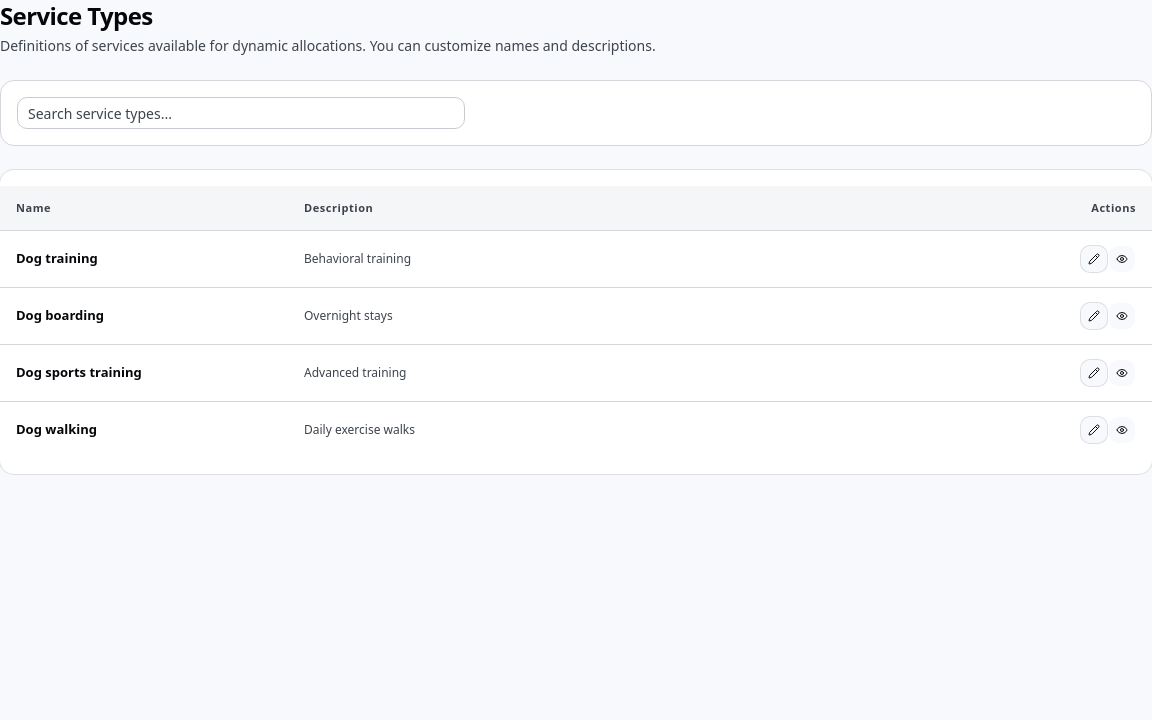
Test case: ServiceTypesTable Component › should open the edit modal when the pencil (edit) button is clicked
Click the button titled "Edit ": click(1094, 258) [1080, 244, 1108, 272]
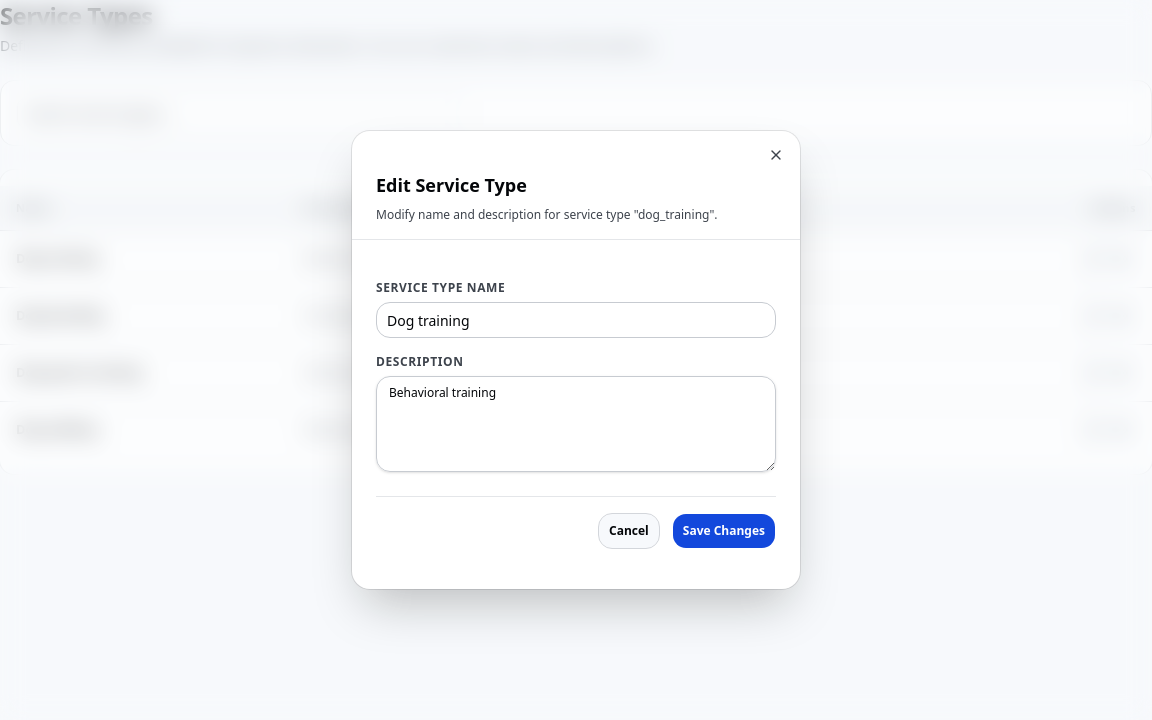
Check: the text "Edit Service Type" is shown, box [376, 173, 527, 197]
Check: the field showing "Dog training" is shown, box [376, 302, 776, 338]
